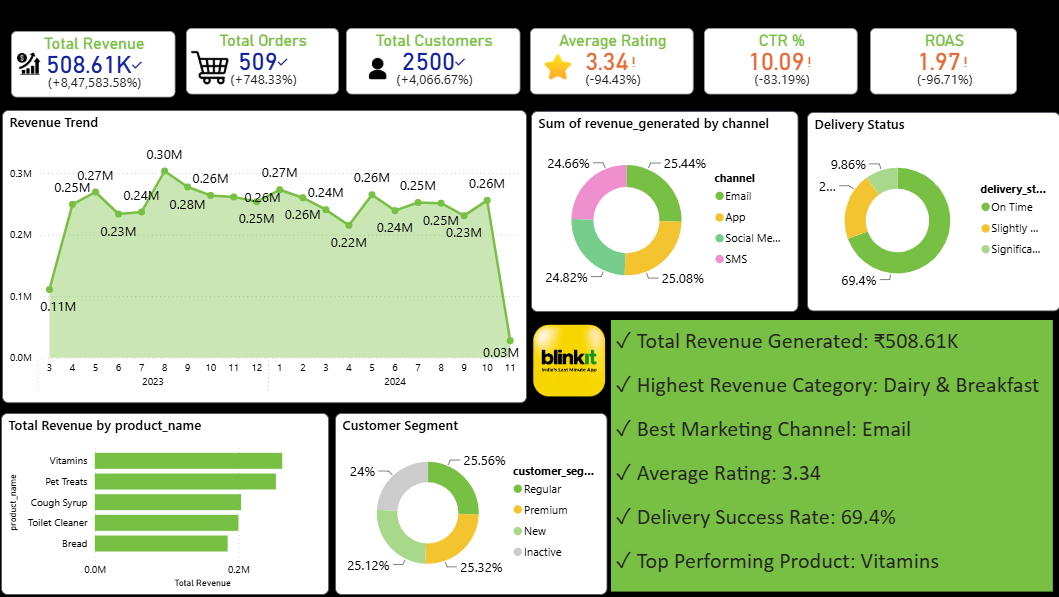

The dashboard page shown, as its layout file describes it:
{"tool":"powerbi","page":{"name":"BUSINESS OVERVIEW","canvas":[1280,720],"ordinal":5},"visuals":[{"type":"donutChart","title":"Delivery Status","fields":{"Category":["orders_clean.delivery_status"],"Y":["CountNonNull(orders_clean.order_id)"]},"box":[973.6,136.6,304.8,240.4],"z":0},{"type":"donutChart","fields":{"Category":["marketing_performance_clean.channel"],"Y":["Sum(marketing_performance_clean.revenue_generated)"]},"box":[641.2,135.3,321.9,241.8],"z":1000},{"type":"lineChart","title":"Revenue Trend","fields":{"Category":["Dim Calendar.Year","Dim Calendar.Month No"],"Y":["order_items_clean.Revenue Trend"]},"box":[5.3,134,632,353.4],"z":2000},{"type":"clusteredBarChart","fields":{"Category":["products_clean.product_name"],"Y":["order_items_clean.Total Revenue"]},"box":[3.9,498,395.5,219.4],"z":3000},{"type":"donutChart","title":"Customer Segment","fields":{"Y":["CountNonNull(customers_clean.customer_id)"],"Category":["customers_clean.customer_segment"]},"box":[406,498,328.5,219.4],"z":4000},{"type":"kpi","title":"Total Revenue","fields":{"Indicator":["order_items_clean.Total Revenue"],"TrendLine":["Date Table.Month Name"],"Goal":["CountNonNull(Dim Calendar.Year)"]},"box":[16.1,38,198.4,80.1],"z":5000},{"type":"kpi","title":"Total Orders","fields":{"Indicator":["orders_clean.Total Orders"],"TrendLine":["Date Table.Month Name"],"Goal":["CountNonNull(Dim Calendar.Year)"]},"box":[226.4,35.4,183.9,80.1],"z":6000},{"type":"kpi","title":"Average Rating","fields":{"Indicator":["customer_feedback_clean.Average Rating"],"TrendLine":["Date Table.Month Name"],"Goal":["CountNonNull(Dim Calendar.Year)"]},"box":[640.2,35.4,197.1,80.1],"z":7000},{"type":"kpi","title":"Total Customers","fields":{"Indicator":["customers_clean.Total Customers"],"TrendLine":["Date Table.Month Name"],"Goal":["CountNonNull(Dim Calendar.Year)"]},"box":[419.5,35.4,210.2,80.1],"z":8000},{"type":"image","box":[22.7,61.7,27.6,32.8],"z":9000},{"type":"image","box":[204,60.3,102.5,44.7],"z":10000},{"type":"image","box":[654.7,56.4,38.1,49.9],"z":11000},{"type":"image","box":[443.1,61.7,27.6,44.7],"z":12000},{"type":"kpi","title":"CTR %","fields":{"Indicator":["marketing_performance_clean.CTR %"],"TrendLine":["Date Table.Month Name"],"Goal":["CountNonNull(Dim Calendar.Year)"]},"box":[850.4,35.4,185.3,80.1],"z":13000},{"type":"kpi","title":"ROAS","fields":{"Indicator":["marketing_performance_clean.ROAS M"],"TrendLine":["Date Table.Month Name"],"Goal":["CountNonNull(Dim Calendar.Year)"]},"box":[1050.2,35.4,177.4,80.1],"z":14000},{"type":"textbox","box":[738.4,386.3,532.1,327.2],"z":15000},{"type":"image","box":[609.6,382.3,157.7,105.1],"z":17000}]}

Visuals, with their boxes in screenshot pixels (x1, y1, x2, y2), scaled from the page's 1280x720 canvas onto the 1059x597 screenshot:
"Delivery Status" donutChart: [806,113,1058,313]
donutChart - marketing_performance_clean.channel x Sum(marketing_performance_clean.revenue_generated): [530,112,797,313]
"Revenue Trend" lineChart: [4,111,527,404]
clusteredBarChart - products_clean.product_name x order_items_clean.Total Revenue: [3,413,330,595]
"Customer Segment" donutChart: [336,413,608,595]
"Total Revenue" kpi: [13,32,177,98]
"Total Orders" kpi: [187,29,339,96]
"Average Rating" kpi: [530,29,693,96]
"Total Customers" kpi: [347,29,521,96]
image: [19,51,42,78]
image: [169,50,254,87]
image: [542,47,573,88]
image: [367,51,389,88]
"CTR %" kpi: [704,29,857,96]
"ROAS" kpi: [869,29,1016,96]
textbox: [611,320,1051,592]
image: [504,317,635,404]
